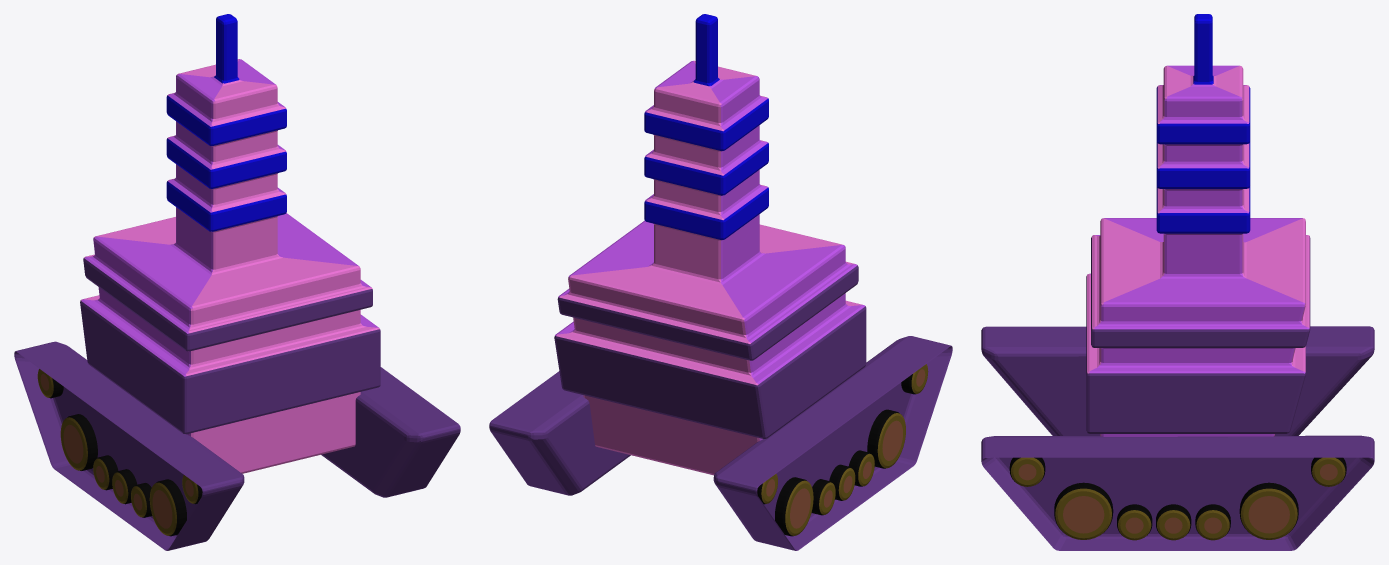
Rendered from tesla.fbx.
3 views of the same model, side by side, from view 1: azimuth 30°, elevation 25°; view 2: azimuth 150°, elevation 25°; view 3: azimuth 270°, elevation 25° (orthographic). The views are drawn at different scales.
Parts seen in each view (by area): view 1: tesla_body, tesla_track1, tesla_track1.001; view 2: tesla_body, tesla_track1, tesla_track1.001; view 3: tesla_body, tesla_track1.001, tesla_track1.
Part boxes in pixels (x1,y1,x2,y2): tesla_body: (80, 14, 380, 473); tesla_track1: (14, 341, 244, 550); tesla_track1.001: (321, 367, 460, 497); tesla_body: (554, 14, 866, 475); tesla_track1: (713, 336, 952, 550); tesla_track1.001: (489, 371, 630, 495); tesla_body: (1086, 14, 1310, 436); tesla_track1.001: (981, 435, 1374, 550); tesla_track1: (981, 326, 1374, 435).
Size of the model in its own units: 215 by 359 by 273.
